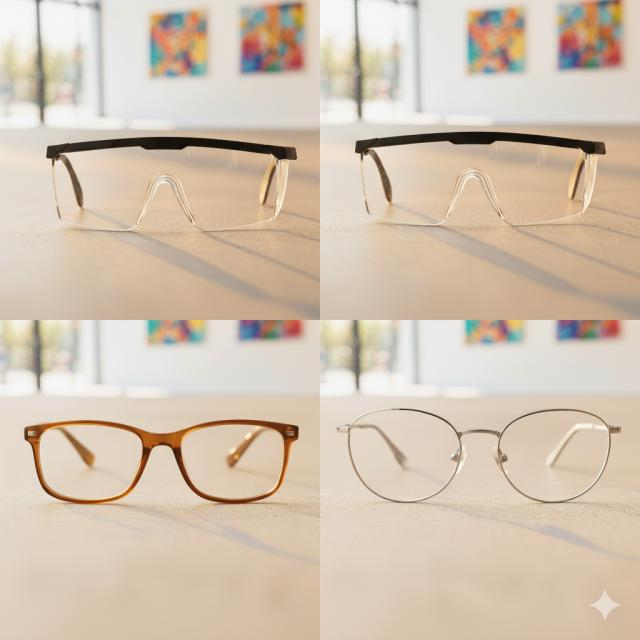oculos-epi: (42, 128, 303, 235), (348, 125, 610, 231)
sem_oculos: (337, 409, 621, 503), (25, 420, 298, 503)
